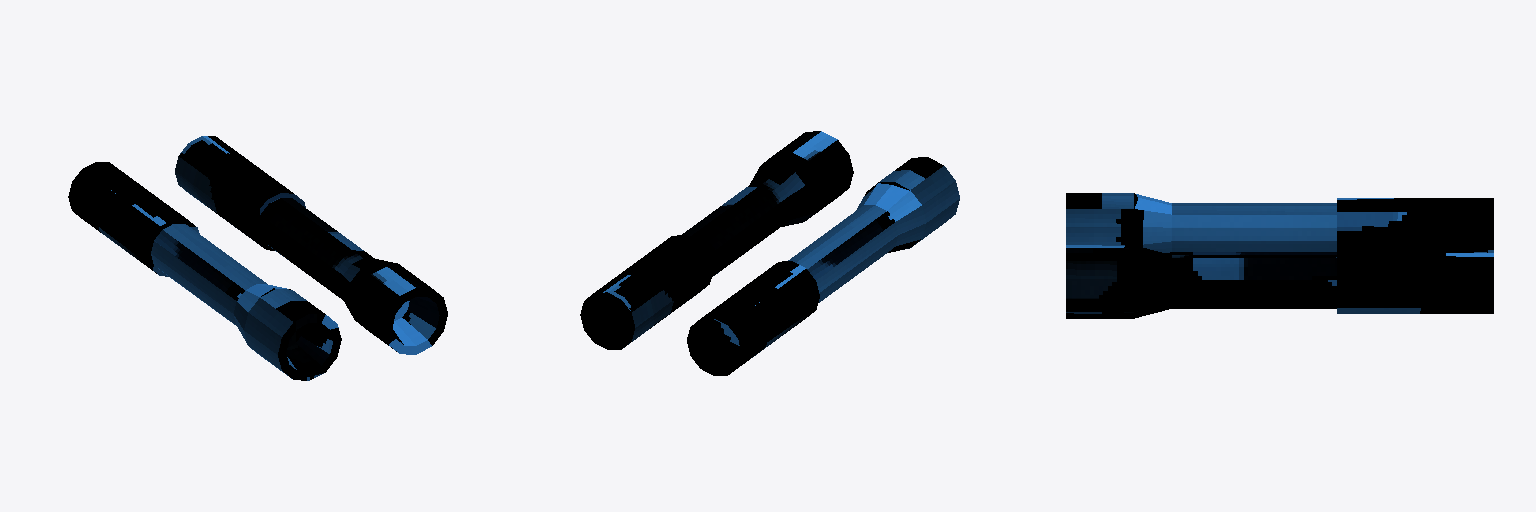
3 views of the same model, side by side, from view 1: azimuth 30°, elevation 25°; view 2: azimuth 150°, elevation 25°; view 3: azimuth 270°, elevation 25° (orthographic).
Visible parts, largest first — view 1: Box028; view 2: Box028; view 3: Box028.
Part boxes in pixels (x1,y1,x2,y2): Box028: (68, 136, 447, 380); Box028: (580, 131, 959, 375); Box028: (1066, 193, 1493, 318).
Bounding box in the file's own units: 8.16 × 3.07 × 17.74.
Materials: 1 (1 with a texture image).